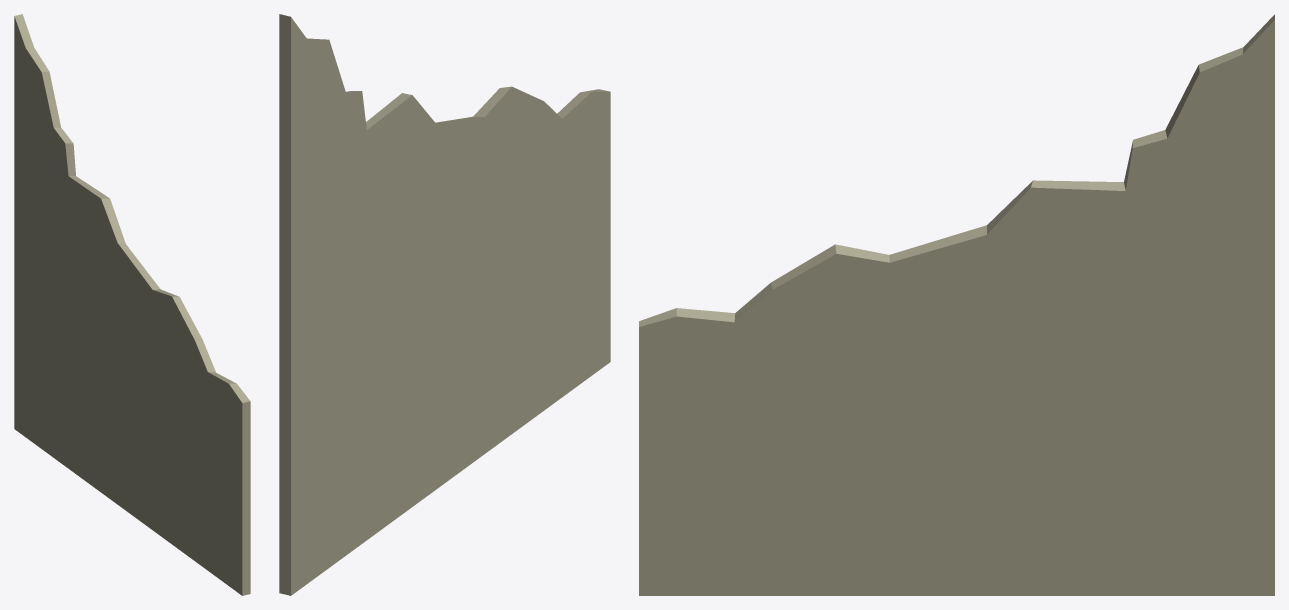
File: WallBroken3.fbx
3 renders of one model, left to right at view 1: azimuth 30°, elevation 25°; view 2: azimuth 150°, elevation 25°; view 3: azimuth 270°, elevation 25°, orthographic. The views are drawn at different scales.
Parts seen in each view (by area): view 1: WallBroken3; view 2: WallBroken3; view 3: WallBroken3.
Boxes of the visible parts, left/top/right/bottom form: WallBroken3: left=14, top=14, right=250, bottom=595; WallBroken3: left=279, top=14, right=610, bottom=595; WallBroken3: left=639, top=14, right=1274, bottom=595.
Size of the model in its own units: 0.25 by 12 by 12.
